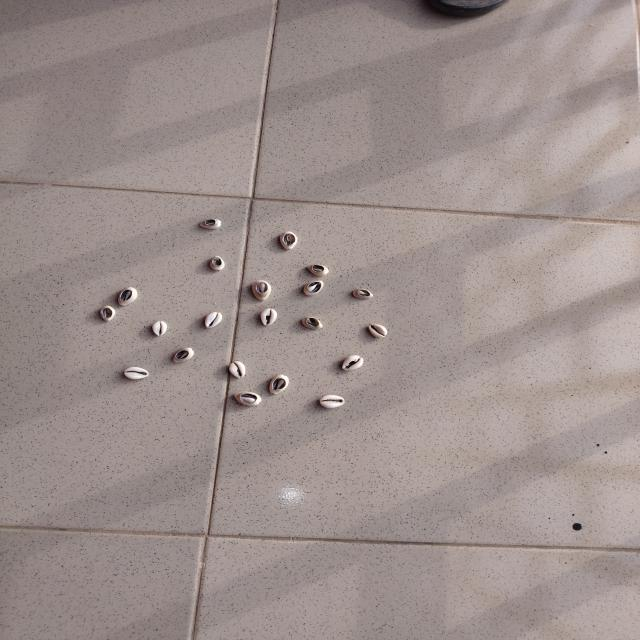facedown: (231, 390, 264, 408), (266, 374, 291, 396), (115, 283, 137, 308), (251, 279, 274, 301), (169, 347, 198, 364), (278, 230, 299, 252), (198, 217, 223, 233), (302, 280, 327, 296), (303, 263, 331, 277), (300, 316, 324, 332), (98, 305, 116, 322), (208, 257, 226, 272), (350, 289, 374, 300)
faceup: (338, 354, 365, 373), (315, 394, 349, 409), (122, 365, 150, 381), (227, 360, 247, 380), (203, 311, 224, 330), (366, 322, 390, 338), (260, 307, 278, 328), (152, 320, 168, 338)
